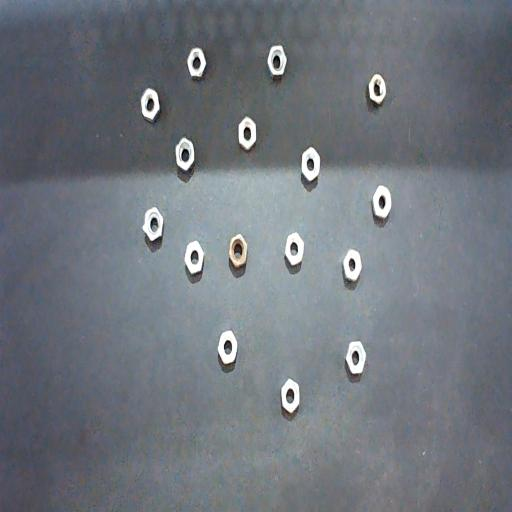nut: (142, 207, 164, 241), (281, 378, 300, 414), (175, 137, 195, 171), (184, 241, 204, 275), (346, 341, 366, 375), (218, 330, 238, 364), (141, 88, 160, 123), (373, 185, 392, 220), (285, 232, 304, 266), (343, 248, 362, 282), (302, 147, 320, 182), (267, 45, 287, 76), (229, 234, 247, 268), (238, 117, 256, 150), (368, 73, 386, 106), (187, 47, 206, 78)
